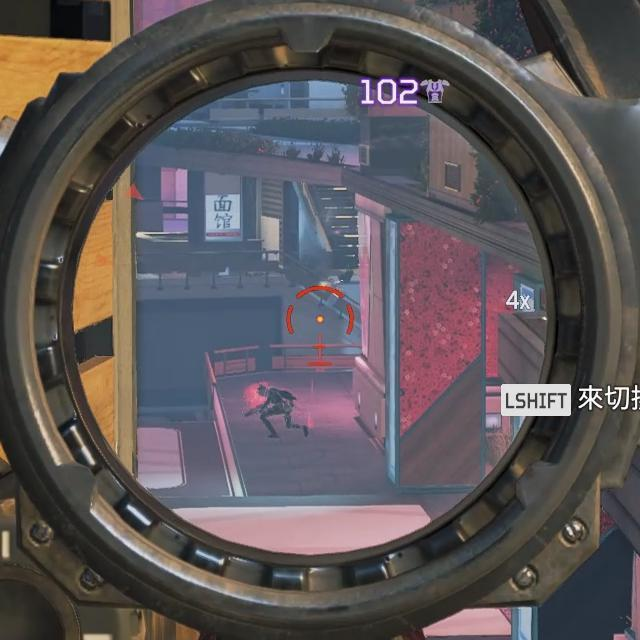avatar: (254, 382, 298, 441)
